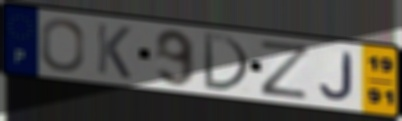9: (154, 28, 197, 88)
D: (201, 30, 253, 94)
J: (318, 50, 356, 103)
K: (94, 20, 133, 81)
O: (39, 17, 87, 74)
Z: (258, 37, 314, 102)
